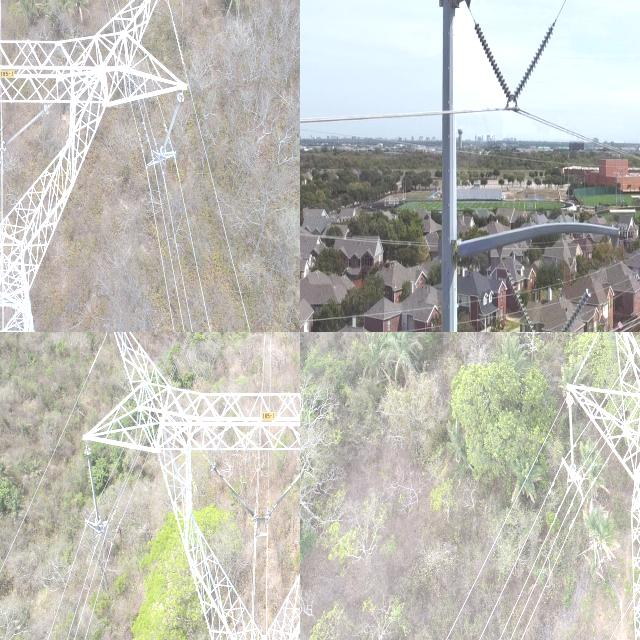杆塔: (79, 332, 300, 640), (0, 0, 187, 332), (554, 332, 640, 640)
正常绝缘子: (504, 7, 564, 119), (467, 9, 519, 111), (498, 257, 540, 332), (209, 459, 257, 522), (1, 100, 50, 155), (82, 437, 104, 542), (555, 280, 598, 332), (266, 468, 300, 519), (160, 92, 184, 157), (565, 396, 579, 476)
